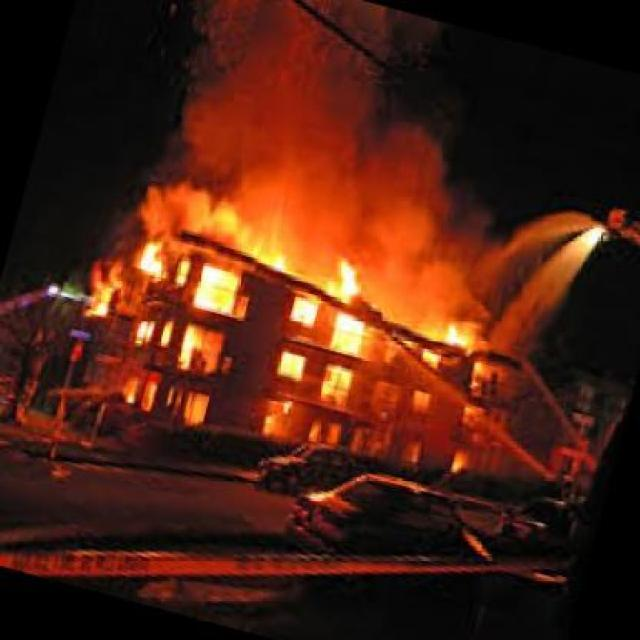Fire: (194, 266, 243, 318), (200, 268, 245, 324), (80, 268, 125, 314), (323, 364, 362, 412), (138, 237, 176, 284), (322, 250, 354, 304), (178, 331, 220, 372), (337, 301, 367, 355), (286, 291, 324, 330), (443, 318, 478, 358), (139, 318, 179, 352), (284, 350, 314, 385), (262, 256, 296, 284)
Smoke: (159, 118, 532, 248), (178, 0, 458, 110)
